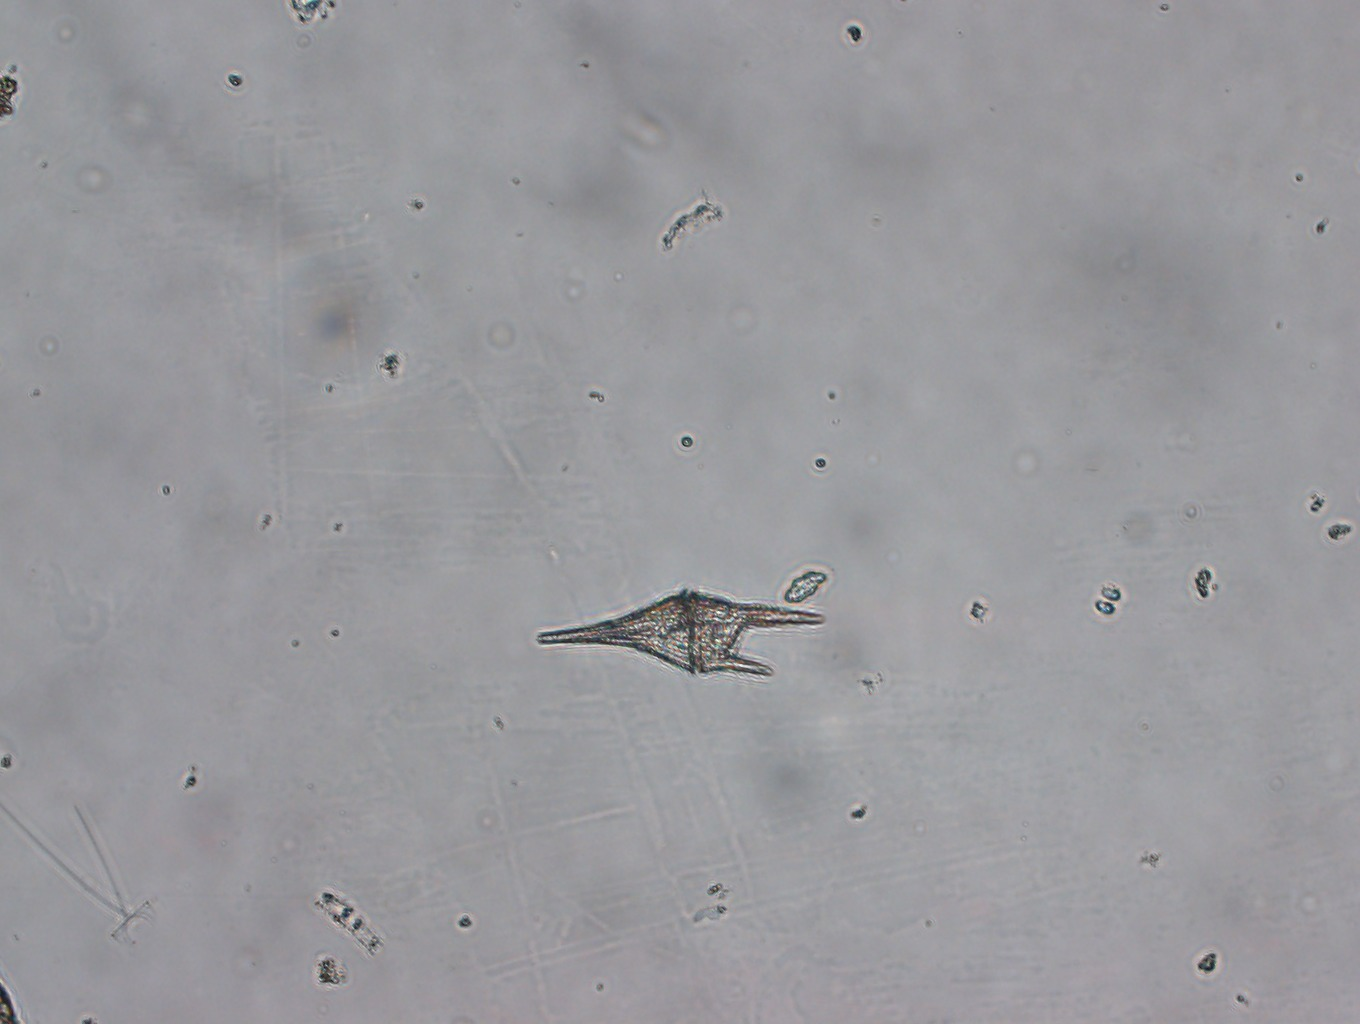ceratium furca: (532, 591, 825, 680)
